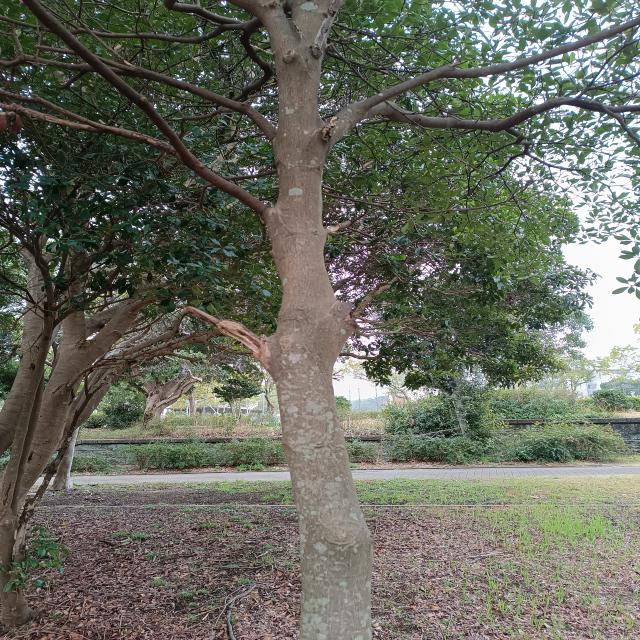Branch: (180, 152, 268, 215), (242, 0, 345, 45), (228, 0, 301, 61), (329, 99, 373, 146)
Twig: (25, 0, 188, 158), (368, 18, 640, 106), (126, 65, 277, 142), (0, 16, 241, 43), (370, 101, 509, 133), (505, 96, 640, 127), (0, 90, 98, 127), (505, 128, 578, 170), (577, 99, 640, 147), (97, 124, 180, 159), (0, 103, 99, 132), (0, 54, 129, 75), (234, 31, 273, 100), (165, 0, 242, 25), (180, 108, 237, 138), (575, 77, 629, 98), (96, 55, 128, 71), (35, 45, 77, 53)
